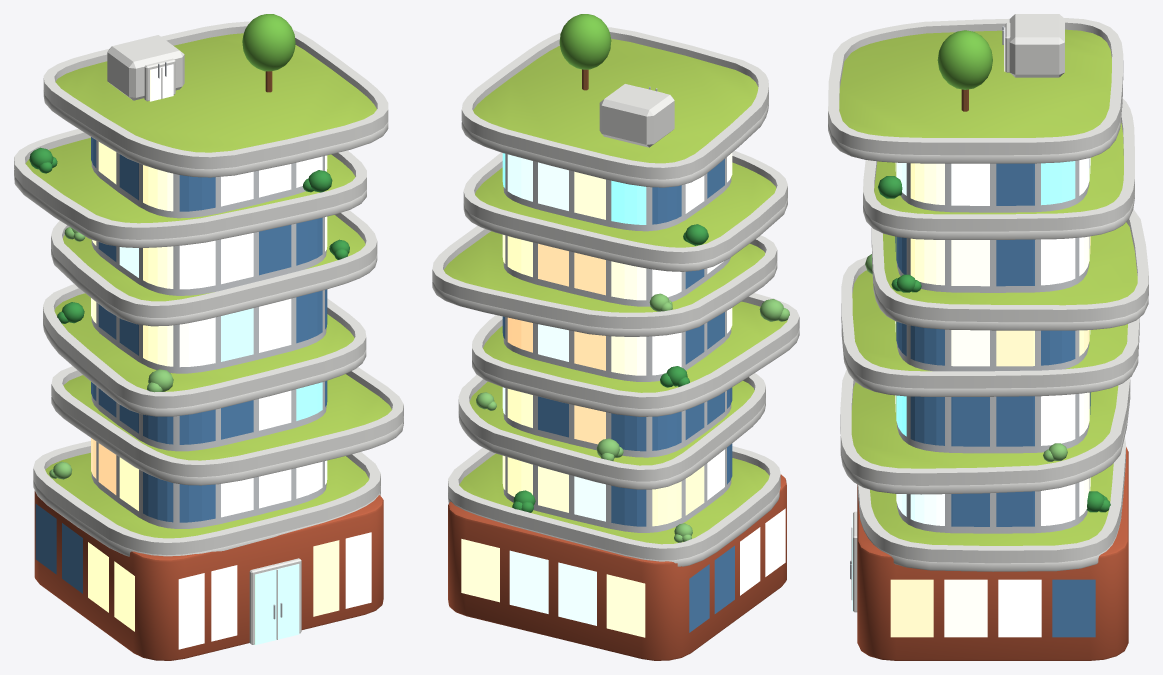
Rendered from predio_tetos_lima.glb.
3 views of the same model, side by side, from view 1: azimuth 30°, elevation 25°; view 2: azimuth 150°, elevation 25°; view 3: azimuth 270°, elevation 25° (orthographic). The views are drawn at different scales.
Parts seen in each view (by area): view 1: predio_tetos_lima; view 2: predio_tetos_lima; view 3: predio_tetos_lima.
Part boxes in pixels (x1,y1,x2,y2): predio_tetos_lima: [14, 14, 403, 660]; predio_tetos_lima: [432, 14, 799, 660]; predio_tetos_lima: [828, 14, 1148, 660].
Size of the model in its own units: 12.7 by 23.57 by 11.6.
7 materials, 1 textured.
